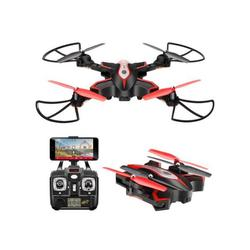drone: (34, 41, 215, 124), (102, 147, 214, 213)
